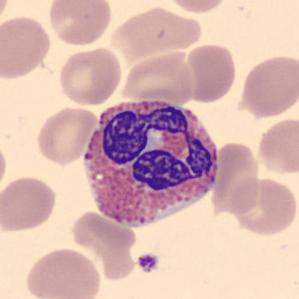Eosinophil: (75, 90, 223, 236)
Platelets: (135, 251, 160, 275)
RBC: (108, 4, 203, 60), (73, 214, 141, 282), (22, 245, 103, 299), (119, 48, 196, 104), (229, 175, 298, 237), (236, 52, 298, 120), (56, 45, 124, 107), (210, 139, 262, 217), (34, 104, 99, 166), (179, 41, 238, 104), (0, 13, 53, 81), (0, 174, 59, 234), (46, 0, 113, 48), (254, 115, 299, 177), (164, 0, 232, 15), (0, 136, 9, 195), (0, 0, 12, 27)
